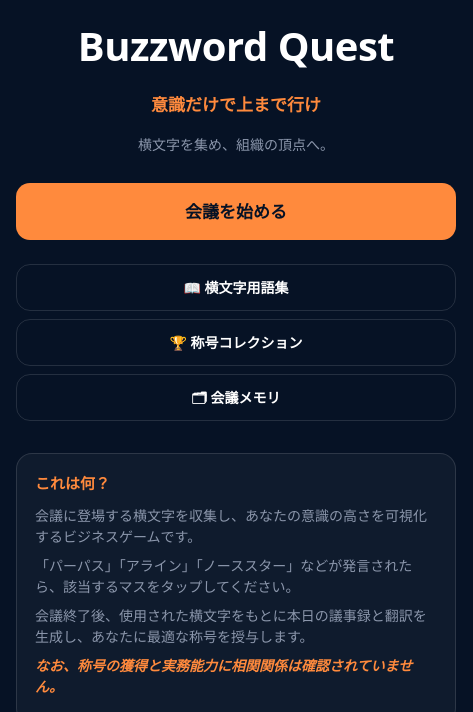
App - Home navigation to Collection and Meeting Memory › opens meeting memory from Home showing the empty state
Click the button "🗂 会議メモリ" at coordinates (236, 398), box [16,374,456,421]
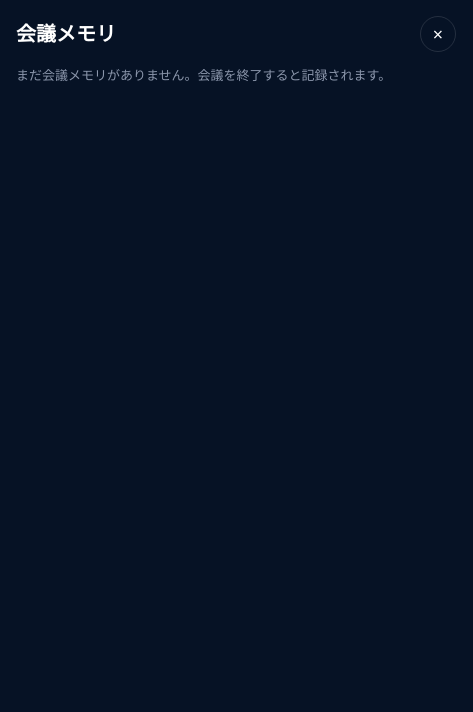
Result: the text "まだ会議メモリがありません。会議を終了すると記録されます。" is shown at [16,66,456,86]
